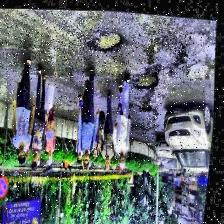pothole: (92, 28, 124, 52), (132, 67, 162, 89), (139, 96, 155, 110)
